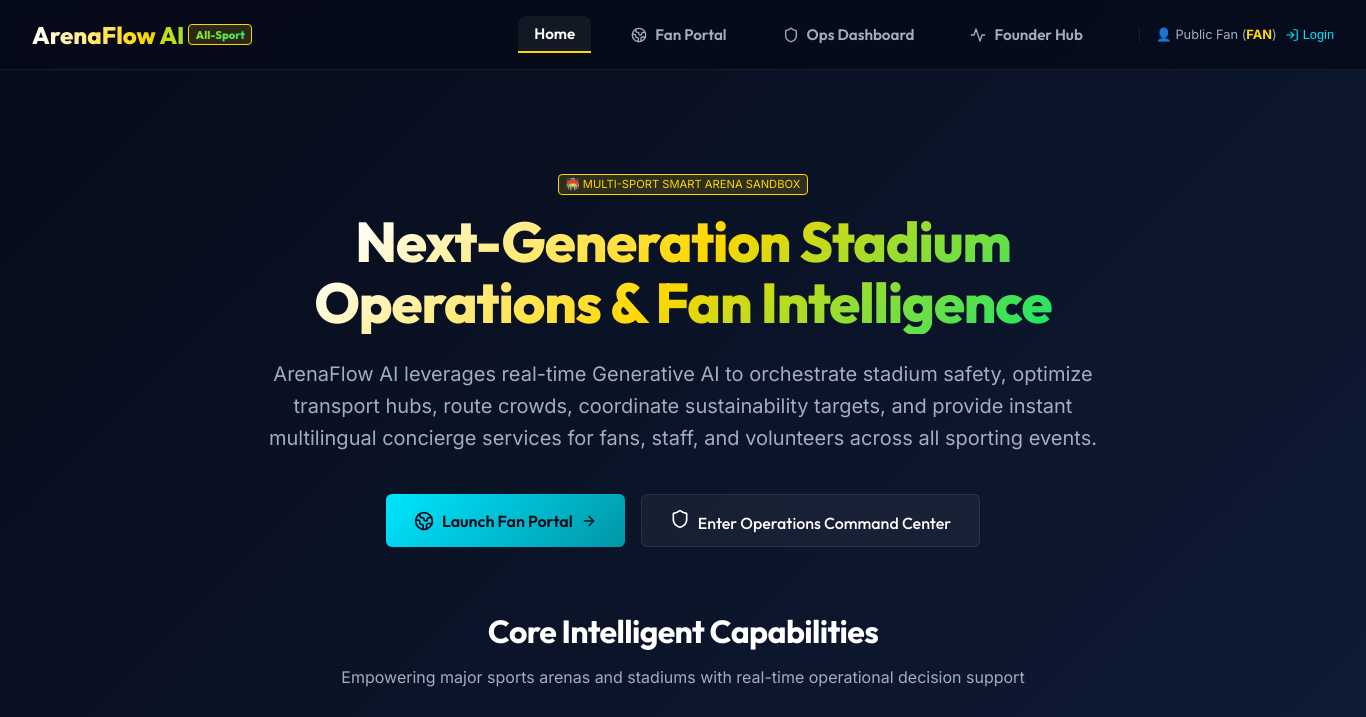
Scenario: ArenaFlow AI Testing Suite › navigates to Fan Portal and processes AI chatbot query
// Locate the Fan Portal link in the navigation header exactly
Click the button "Fan Portal": x=679, y=34 [615, 17, 743, 52]
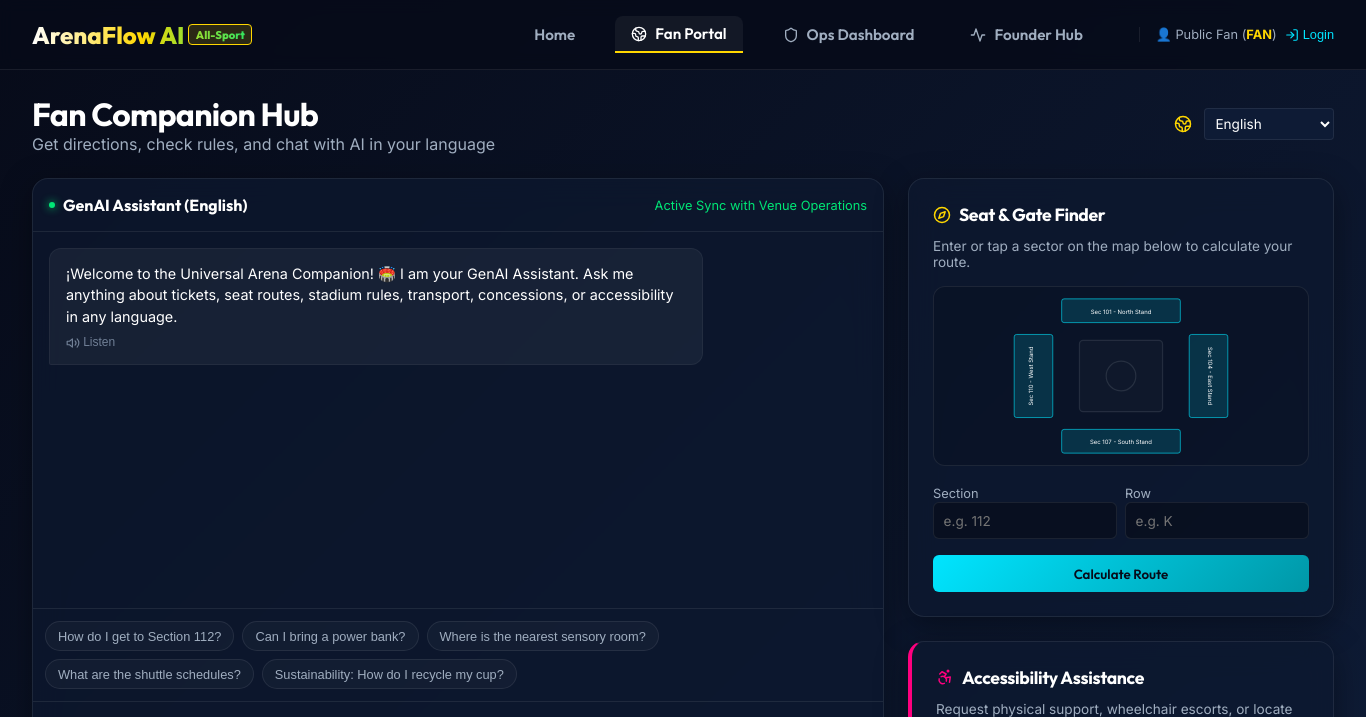
Expected: the heading "Fan Companion Hub" is shown, [32, 94, 318, 134]
// Verify AI chatbot suggestion button is rendered and click it
Click the button with aria-label "Ask: Can I bring a power bank?": x=330, y=636 [242, 621, 418, 651]
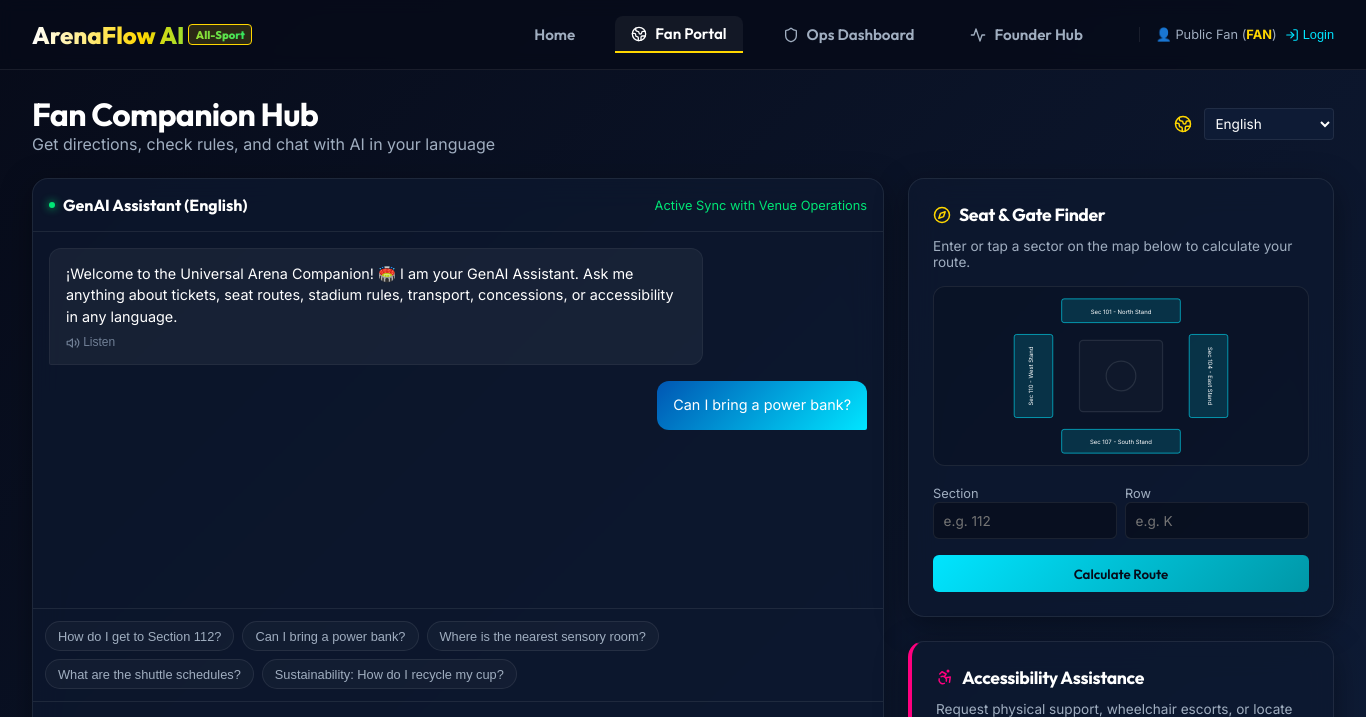
Expected: the text "Can I bring a power bank?" is shown, [673, 394, 851, 416]
